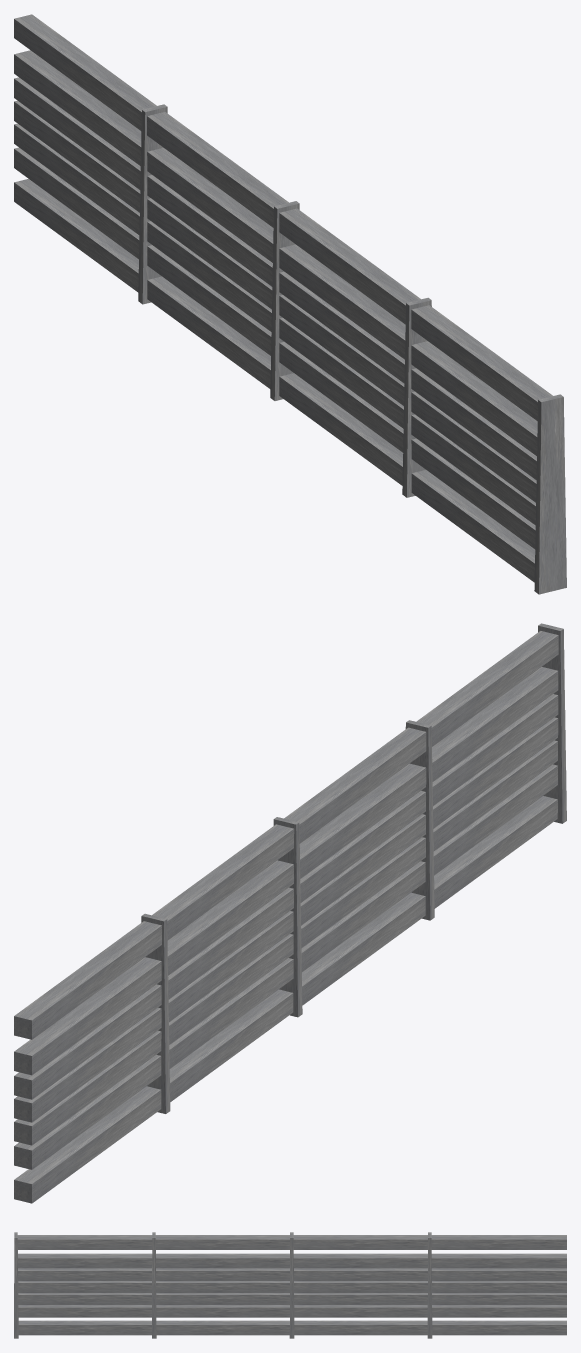
File: grade.fbx
3 renders of one model, top to bottom at view 1: azimuth 30°, elevation 25°; view 2: azimuth 150°, elevation 25°; view 3: azimuth 270°, elevation 25°, orthographic. The views are drawn at different scales.
Visible parts, largest first — view 1: grade; view 2: grade; view 3: grade.
Part boxes in pixels (<box>): grade: <box>14,14,566,594</box>; grade: <box>14,623,566,1203</box>; grade: <box>14,1232,566,1338</box>.
Size of the model in its own units: 23.86 by 156 by 780.
1 material, 1 textured.
